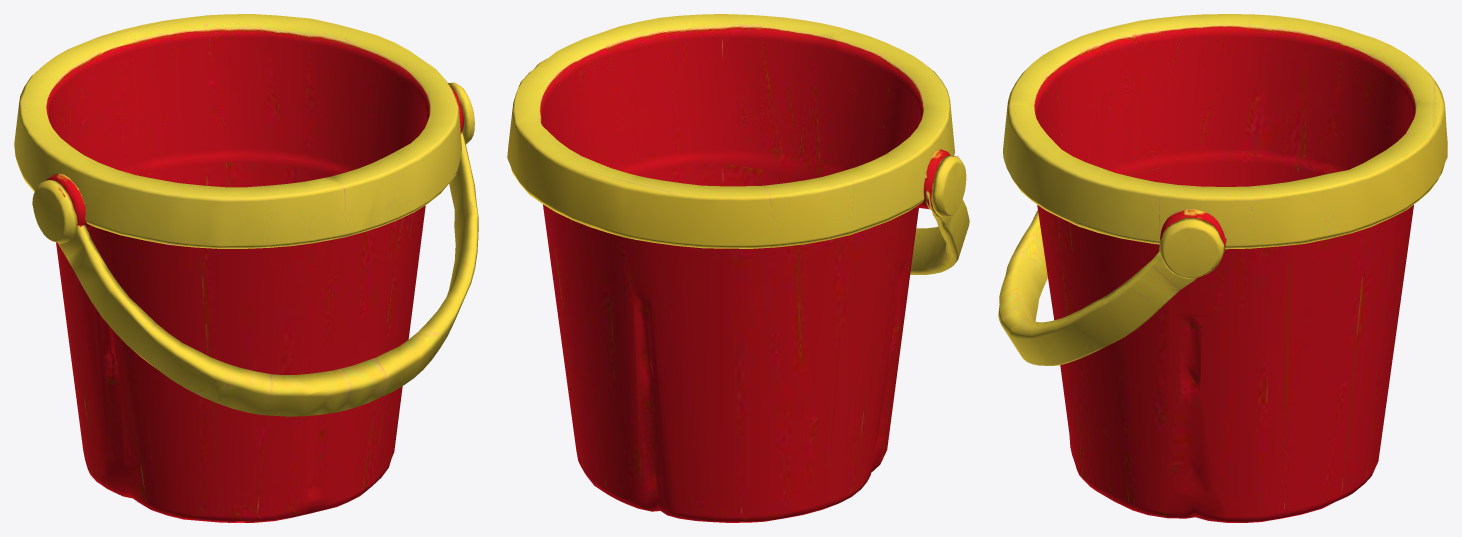
The model's file is bucket.glb.
3 renders of one model, left to right at view 1: azimuth 30°, elevation 25°; view 2: azimuth 150°, elevation 25°; view 3: azimuth 270°, elevation 25°, orthographic.
Parts seen in each view (by area): view 1: Mesh_0; view 2: Mesh_0; view 3: Mesh_0.
Boxes of the visible parts, box(x1,y1,x2,y2) form: Mesh_0: box(14, 14, 478, 522); Mesh_0: box(507, 14, 969, 522); Mesh_0: box(998, 14, 1447, 522).
Size of the model in its own units: 1 by 0.8102 by 0.9257.
Materials: 1 (1 with a texture image).
